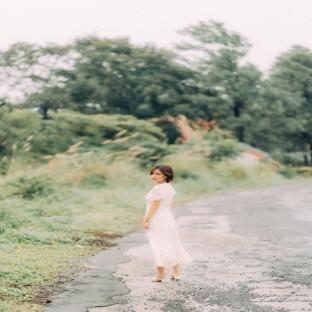Human: (142, 165, 193, 282)
